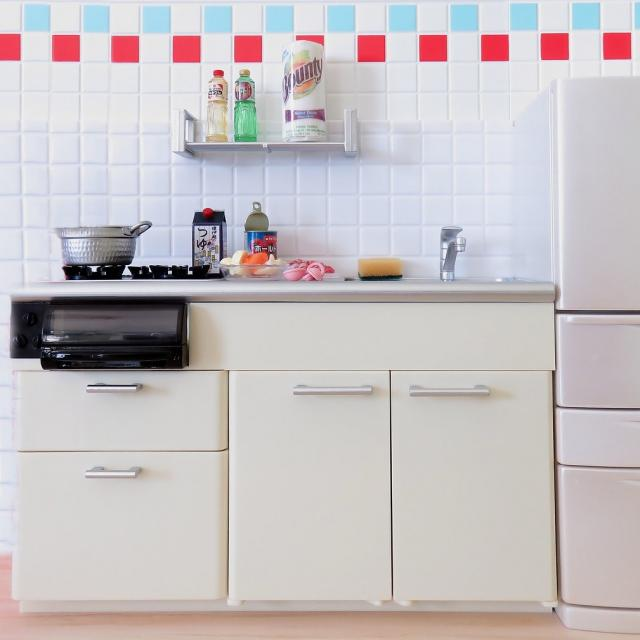E-waste: (20, 293, 198, 371)
Metal: (42, 198, 191, 275), (429, 208, 481, 288)
Plastics: (185, 31, 336, 142)
